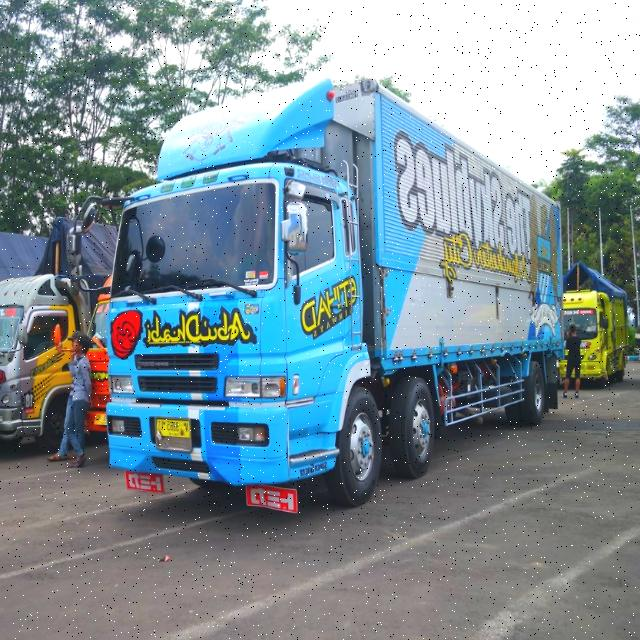truck: (106, 74, 564, 514), (556, 272, 628, 398)
